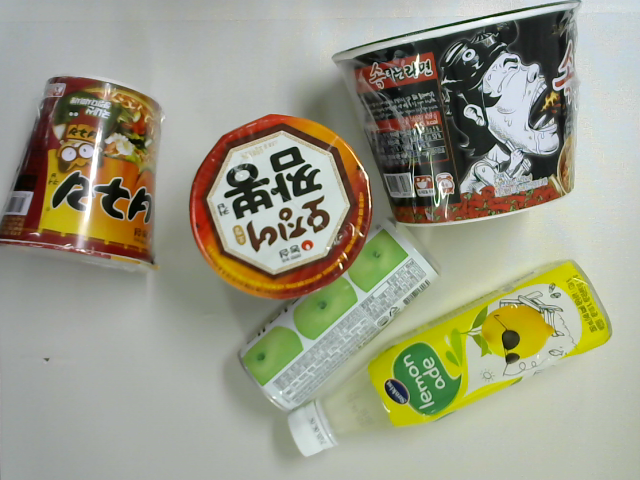Demisoda_Apple_Can_250ml: (233, 219, 439, 414)
HeJangsock: (331, 1, 581, 228)
Ojjam: (187, 112, 373, 297)
Raccoon: (1, 75, 166, 272)
Sunkist_Lemonaid_Pet: (288, 262, 611, 460)
